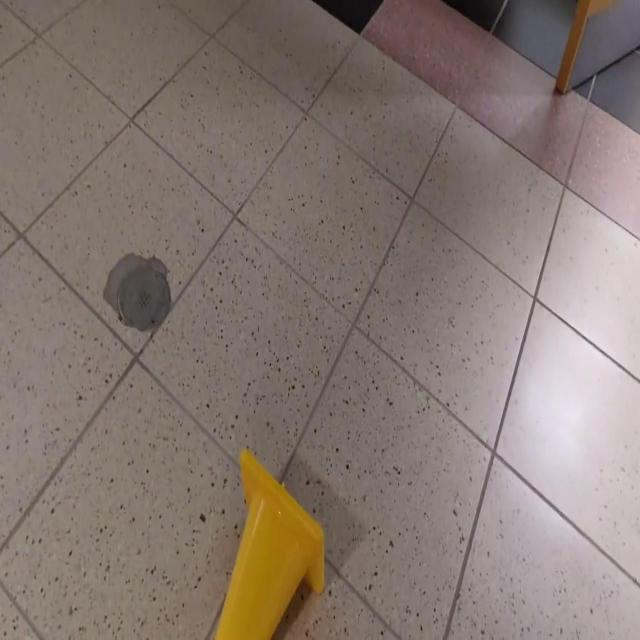frc_cone: (213, 443, 326, 640)
